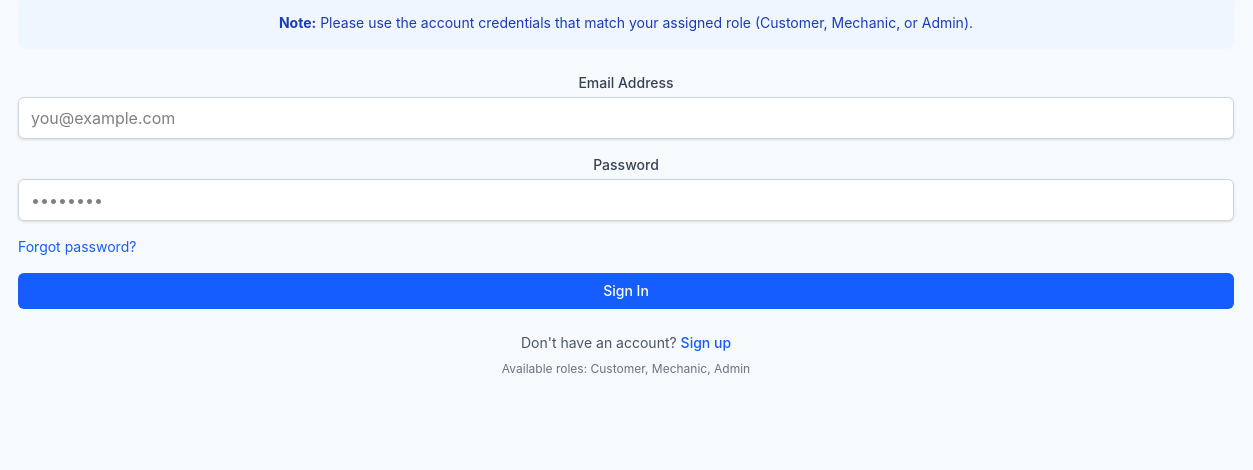
it: Login Page › shows generic error message on unexpected error
Type "test@example.com" into the field labelled "Email Address" at point(626, 118), box x1=18 y1=97 x2=1234 y2=139
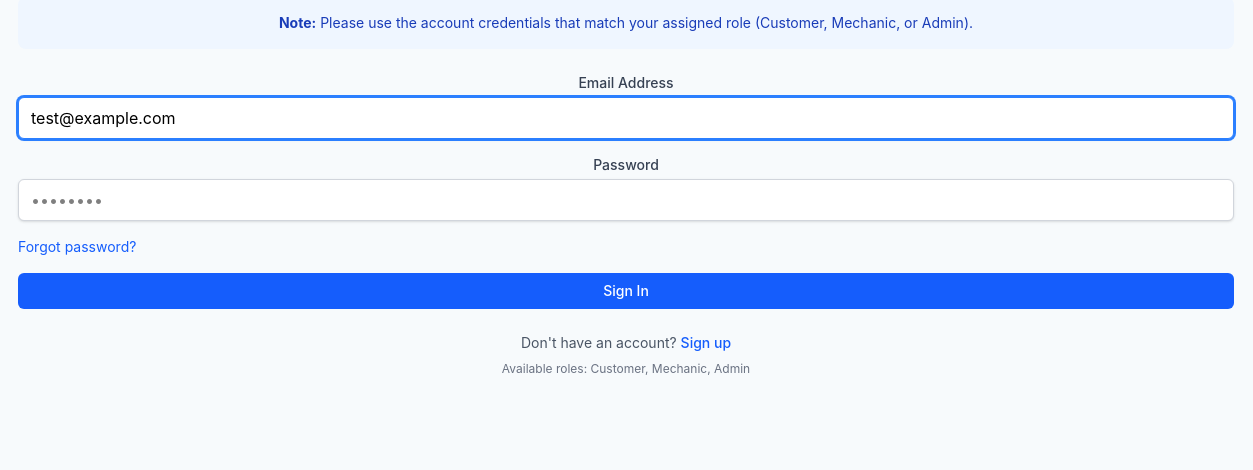
Type "password123" into the password field labelled "Password" at point(626, 200), box x1=18 y1=179 x2=1234 y2=221
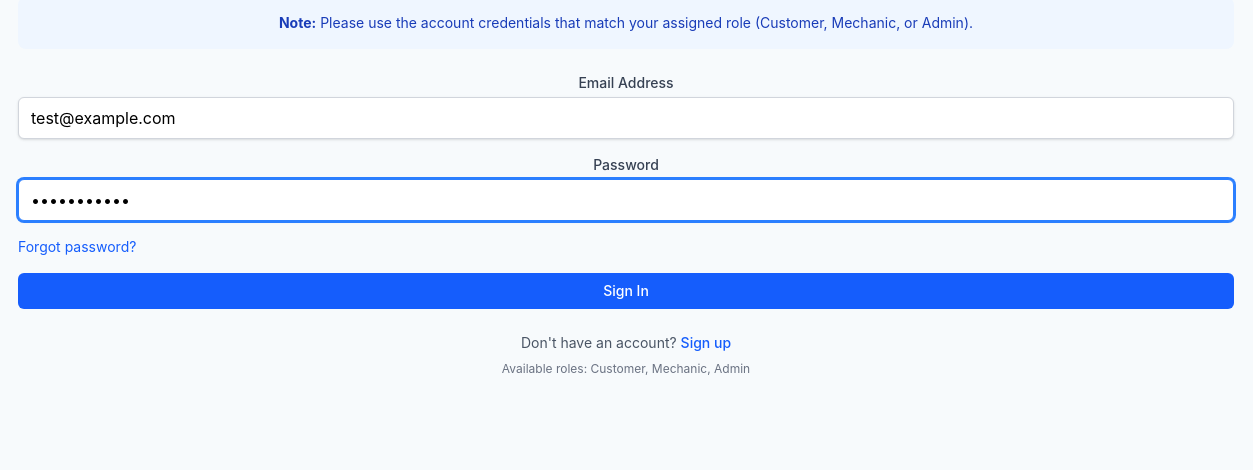
Click the button "Sign In" at point(626, 291), box x1=18 y1=273 x2=1234 y2=309
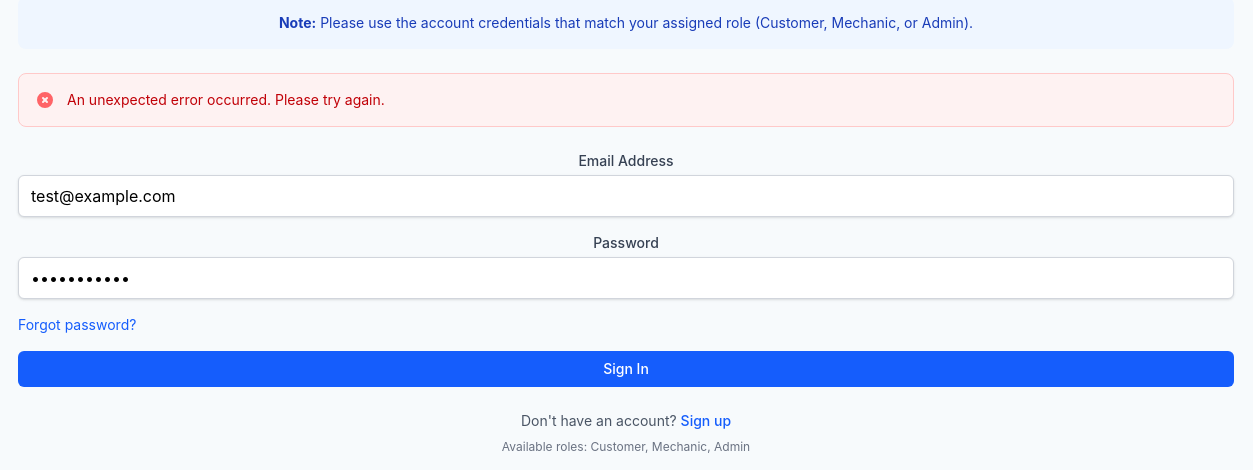
Check: the text "An unexpected error occurred. Please try again." is shown, box x1=67 y1=90 x2=385 y2=110
